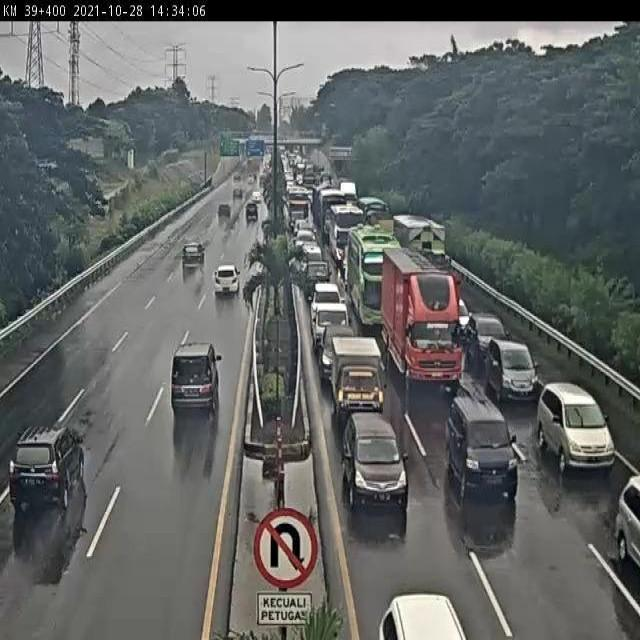bus-l-: (348, 228, 401, 329), (328, 206, 368, 262)
car: (441, 396, 520, 501), (535, 373, 619, 471), (339, 412, 407, 511), (9, 423, 86, 509), (331, 336, 388, 423), (171, 340, 222, 413), (486, 336, 538, 403), (615, 472, 640, 576), (310, 299, 352, 357), (320, 331, 361, 386), (466, 313, 508, 360), (298, 258, 330, 298), (307, 283, 346, 308), (447, 293, 470, 335), (213, 264, 240, 299), (181, 241, 206, 275), (296, 238, 320, 266), (294, 222, 312, 242)
truck-l-: (380, 247, 459, 393), (392, 212, 456, 284)
